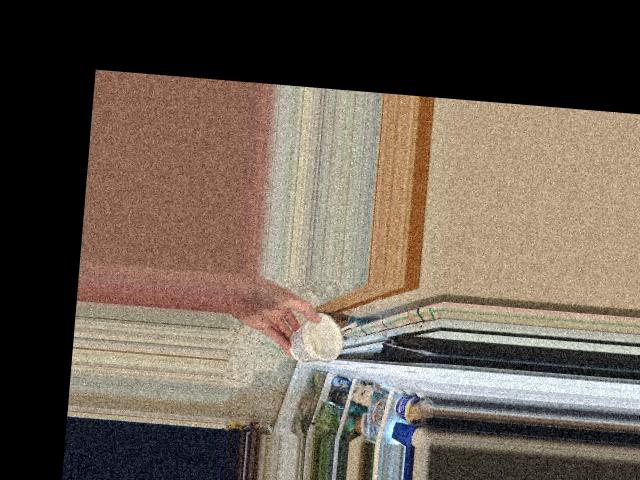cotage: (283, 304, 343, 364)
